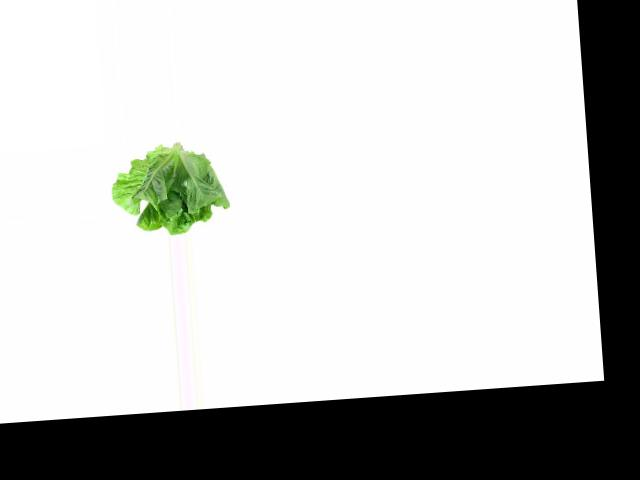lettuce: (110, 143, 233, 238)
